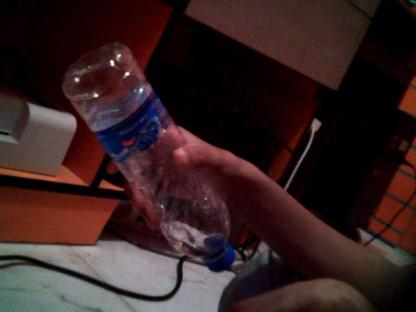Plastic Bottle: (63, 43, 239, 274)
